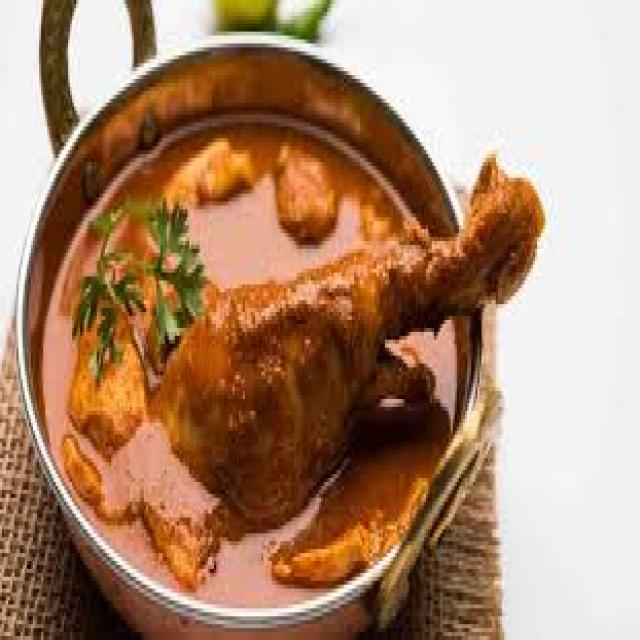Chicken Curry: (39, 87, 556, 600)
